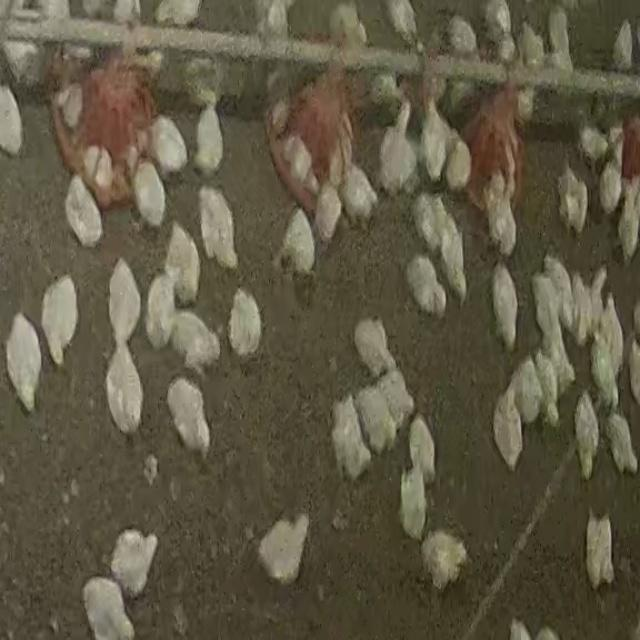chicken: (165, 375, 215, 461), (102, 341, 146, 437), (4, 313, 44, 414), (41, 269, 81, 369), (258, 512, 312, 586), (166, 308, 226, 374), (354, 378, 404, 456), (378, 99, 418, 195), (109, 527, 159, 601), (330, 395, 372, 483), (82, 576, 138, 640), (198, 187, 240, 270), (107, 259, 143, 347), (164, 219, 200, 303), (420, 530, 468, 591), (352, 317, 398, 380), (64, 174, 104, 246), (491, 383, 523, 473), (278, 207, 318, 278), (150, 113, 191, 178), (146, 270, 180, 348), (404, 255, 447, 316), (339, 162, 382, 223), (398, 455, 428, 541), (227, 288, 263, 359), (491, 264, 520, 351), (132, 158, 168, 228), (573, 392, 601, 482), (512, 355, 545, 431), (585, 510, 616, 590), (604, 408, 638, 479), (439, 217, 468, 300), (192, 101, 224, 175), (487, 187, 519, 260), (407, 414, 436, 487), (313, 184, 345, 248), (615, 184, 640, 263)
